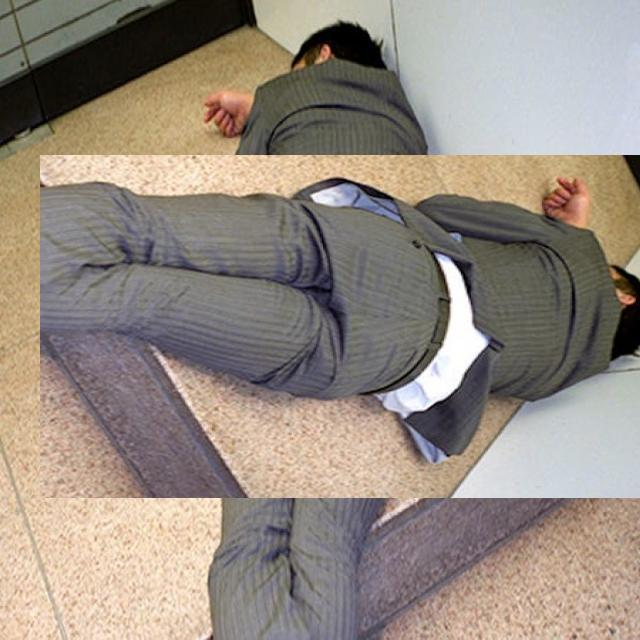Fall: (30, 162, 631, 448)
